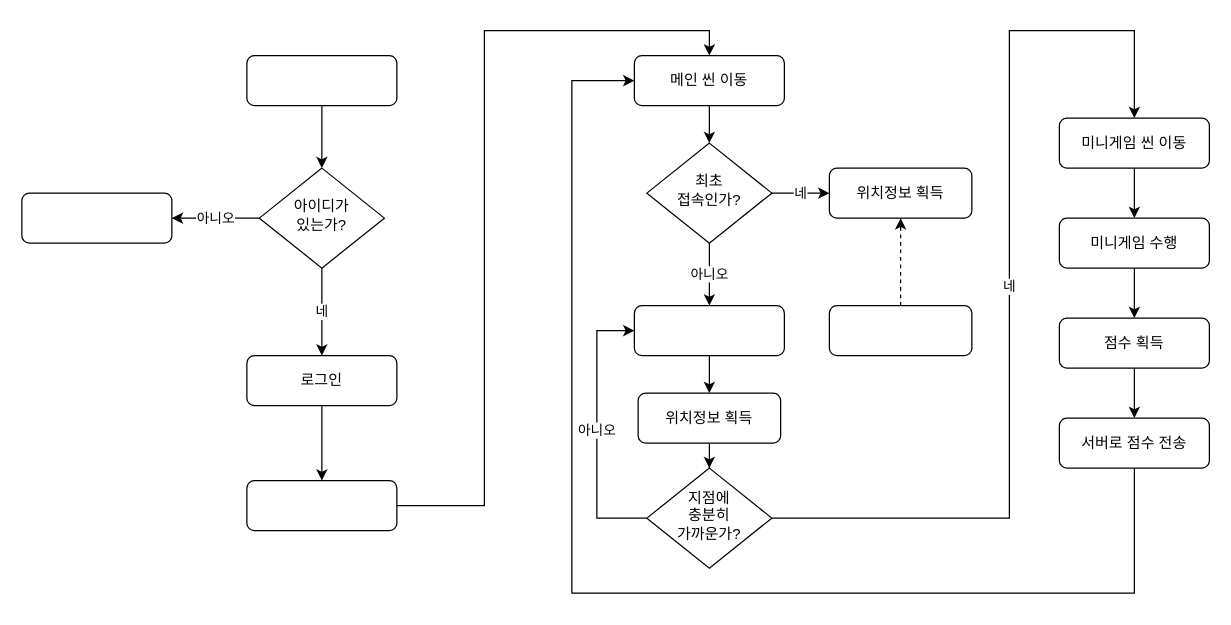
Some shapes in this 1231 by 625 pixel diagram are drawn without their labels. Each missing label, with the box of its shape:
데이터 초기화: (246, 479, 397, 531)
미션 배치: (828, 304, 972, 356)
미션 지점 클릭: (633, 304, 784, 356)
타이틀 화면: (246, 54, 397, 106)
회원 가입: (21, 192, 172, 243)
